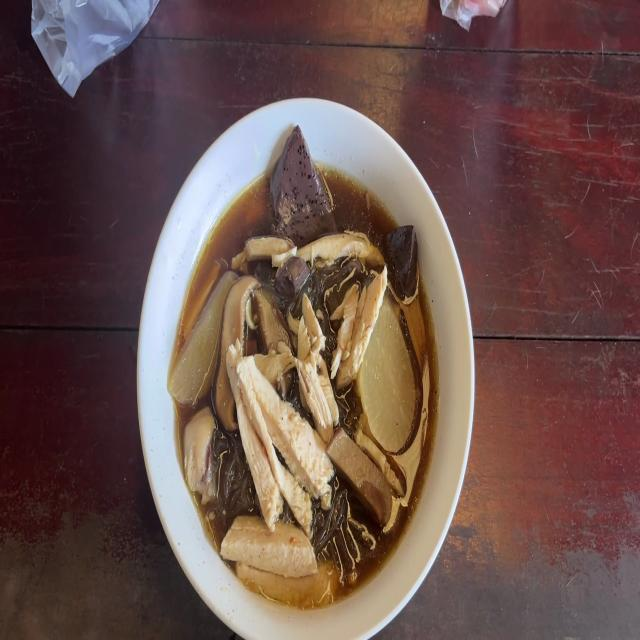noodle: (276, 126, 338, 225), (388, 215, 422, 297), (278, 256, 313, 301)
